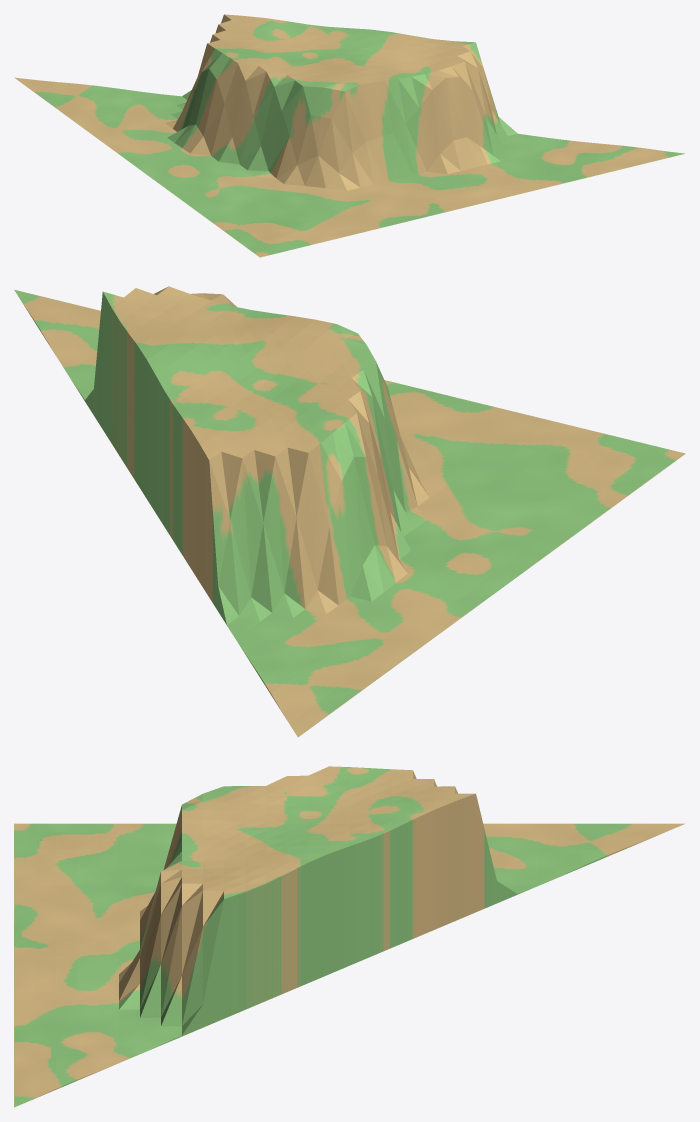
Rendered from Grass_Hills_08_NW.obj.
3 renders of one model, top to bottom at view 1: azimuth 30°, elevation 25°; view 2: azimuth 150°, elevation 25°; view 3: azimuth 270°, elevation 25°, orthographic. The views are drawn at different scales.
Size of the model in its own units: 10 by 1.98 by 10.
1 material, 1 textured.
